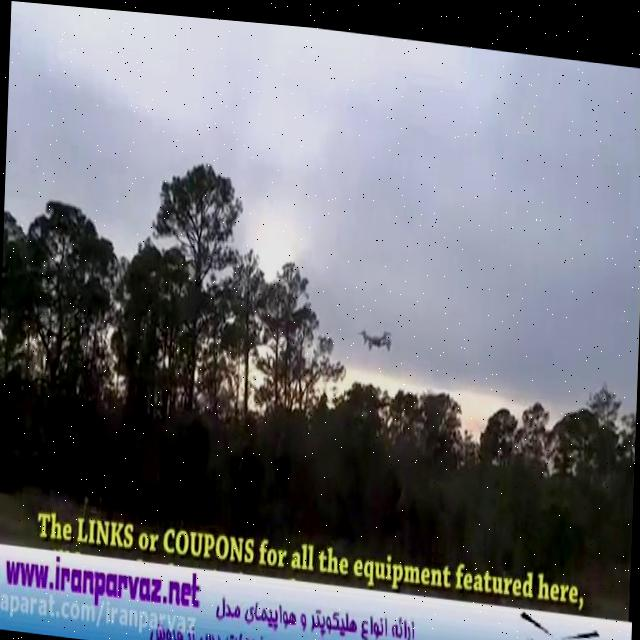drone: (355, 314, 393, 350)
